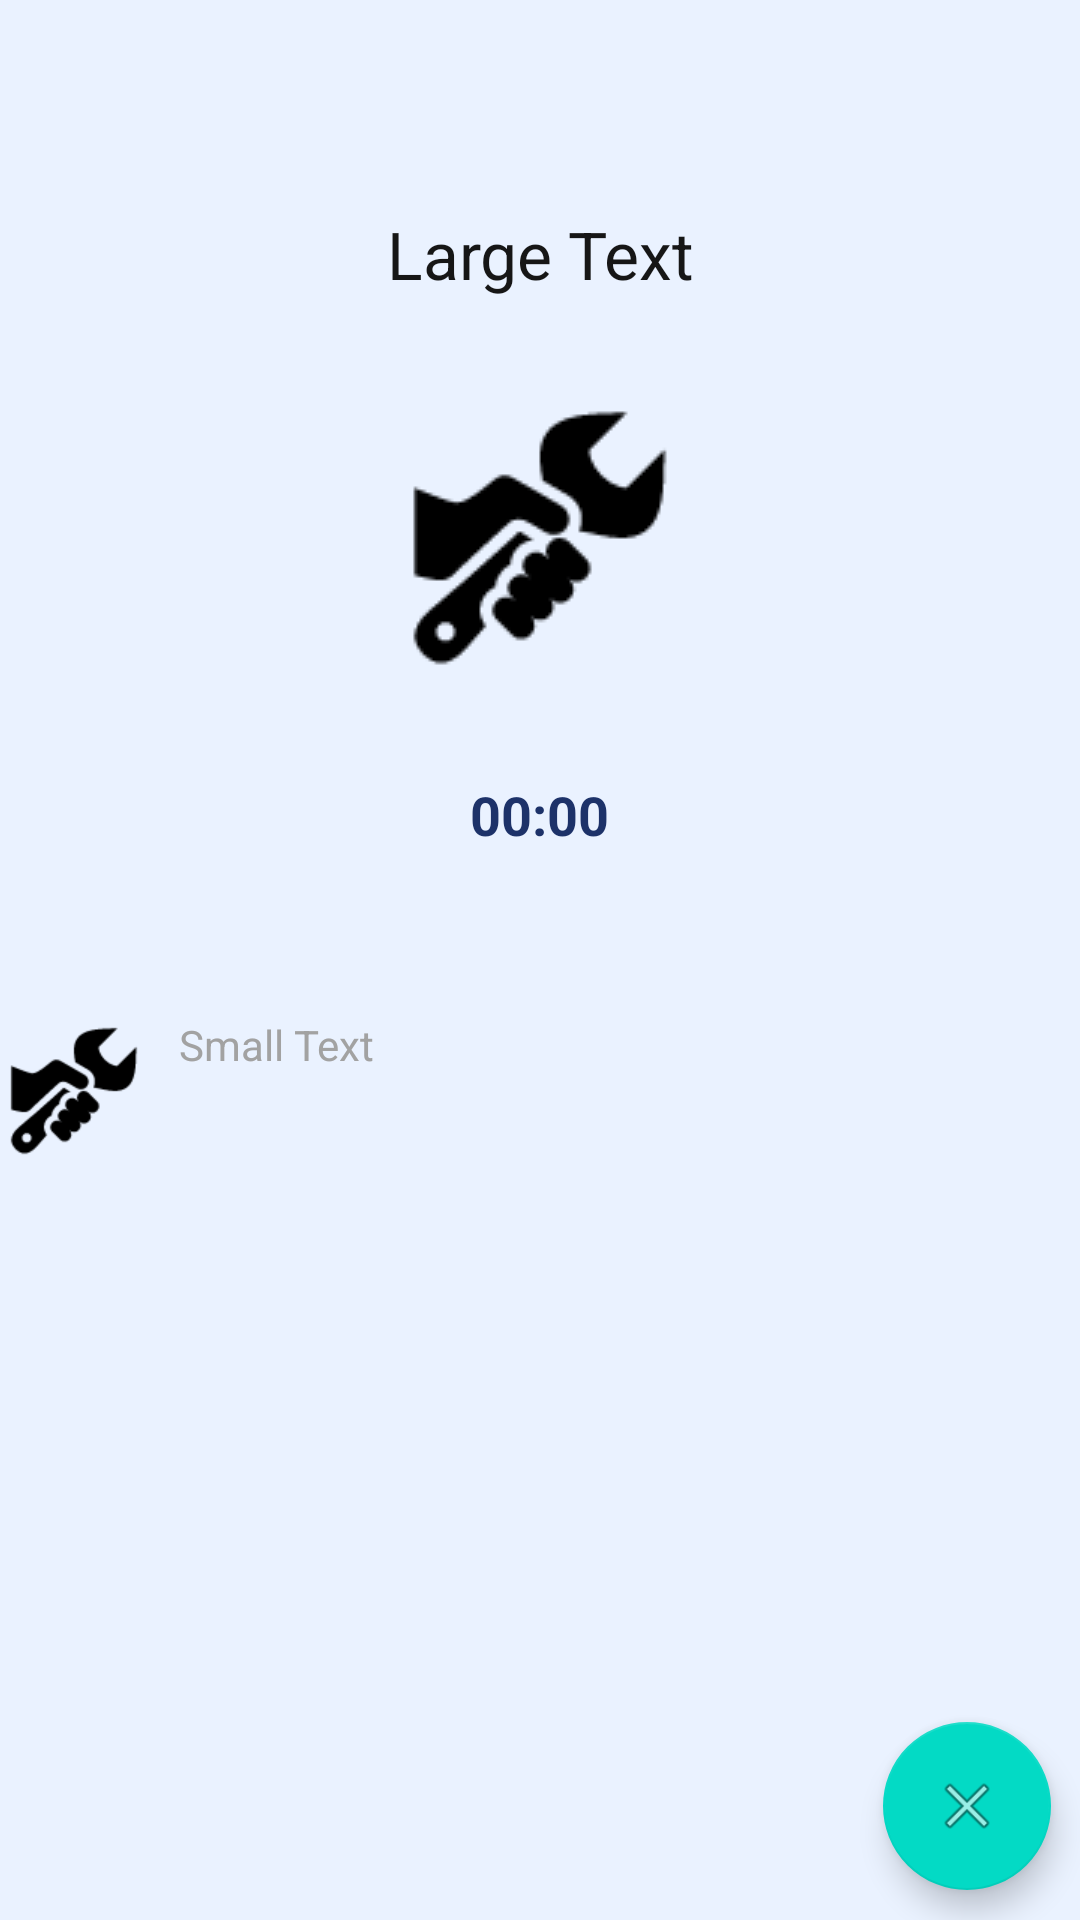

Screen size 1080w x 1920h. Icon name, then its center in pixels as (x=x, y=y):
close clear cancel: (x=967, y=1806)
work: (x=540, y=538), (x=73, y=1090)
